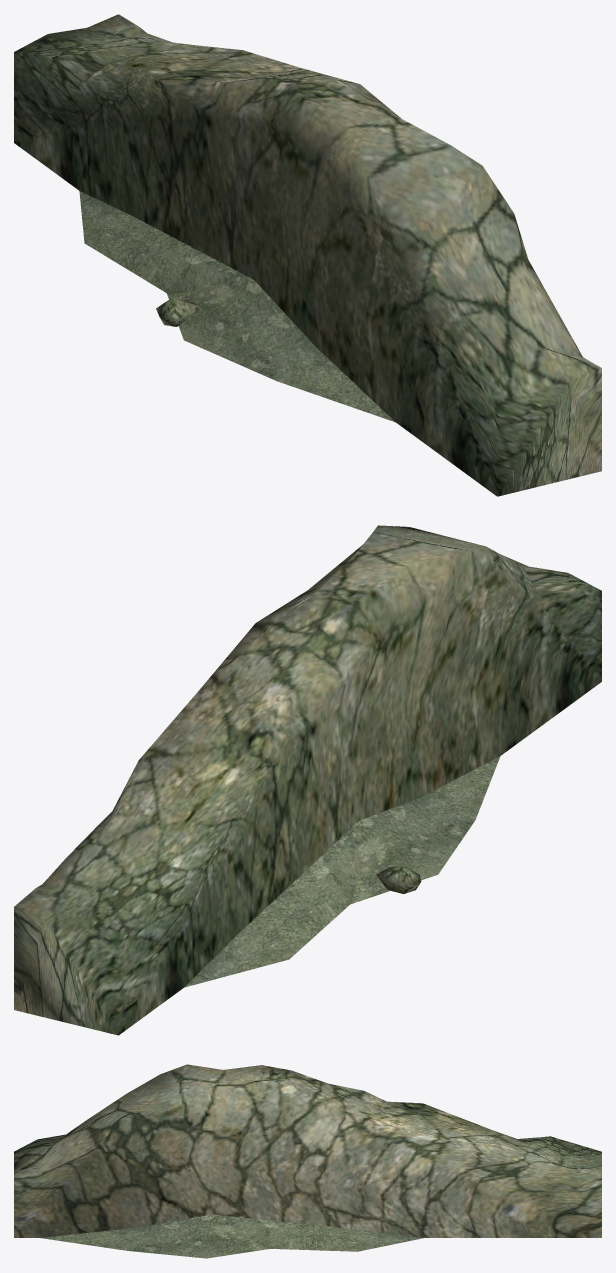
File: thm_nboo_gungan_wall_ruined_sm_s01_l0.fbx
The picture shows the model from 3 angles, top to bottom: view 1: azimuth 30°, elevation 25°; view 2: azimuth 150°, elevation 25°; view 3: azimuth 270°, elevation 25°; orthographic projection. The views are drawn at different scales.
Visible parts, largest first — view 1: mesh_node; view 2: mesh_node; view 3: mesh_node.
Part boxes in pixels (x1,y1,x2,y2): mesh_node: (14,14,601,496); mesh_node: (14,525,601,1035); mesh_node: (14,1064,601,1258).
Bounding box in the file's own units: 1.21 × 1.1 × 4.
